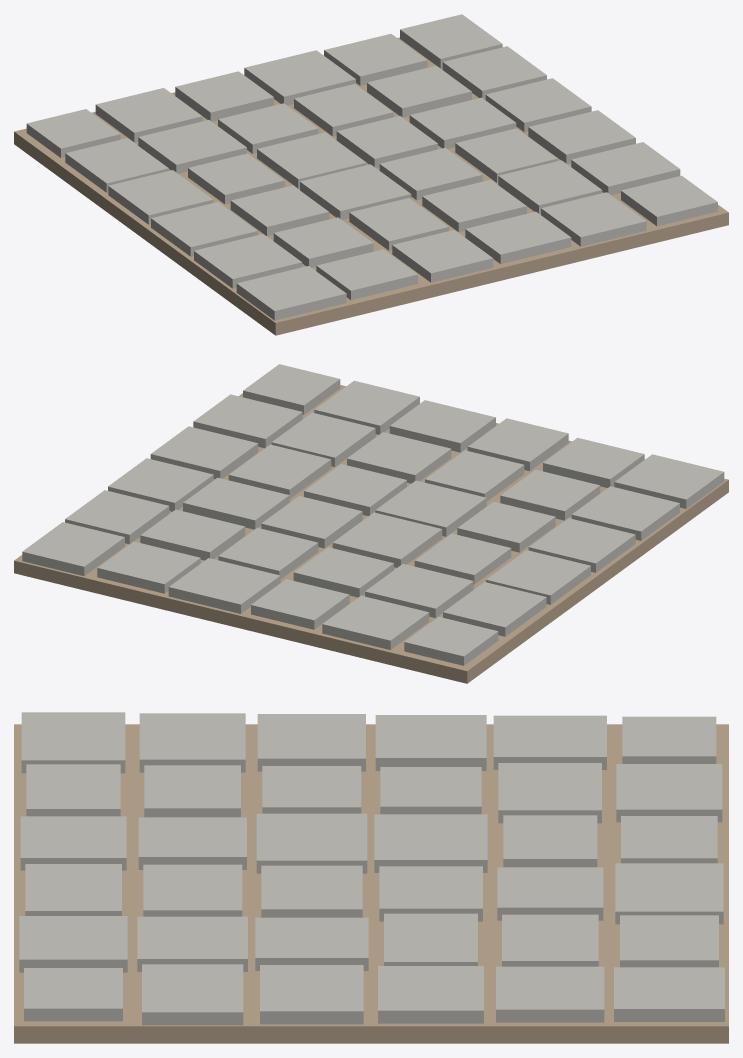
File: korean-hanok-village-and-street-stone-street-module-92994f78__38052.glb
3 views of the same model, one above another, from view 1: azimuth 30°, elevation 25°; view 2: azimuth 150°, elevation 25°; view 3: azimuth 270°, elevation 25° (orthographic). The views are drawn at different scales.
Parts seen in each view (by area): view 1: stone-street-module; view 2: stone-street-module; view 3: stone-street-module.
Boxes of the visible parts, x1=… form: stone-street-module: x1=14, y1=14, x2=728, y2=335; stone-street-module: x1=14, y1=364, x2=728, y2=683; stone-street-module: x1=14, y1=712, x2=728, y2=1043.
Size of the model in its own units: 3 by 0.1399 by 3.
